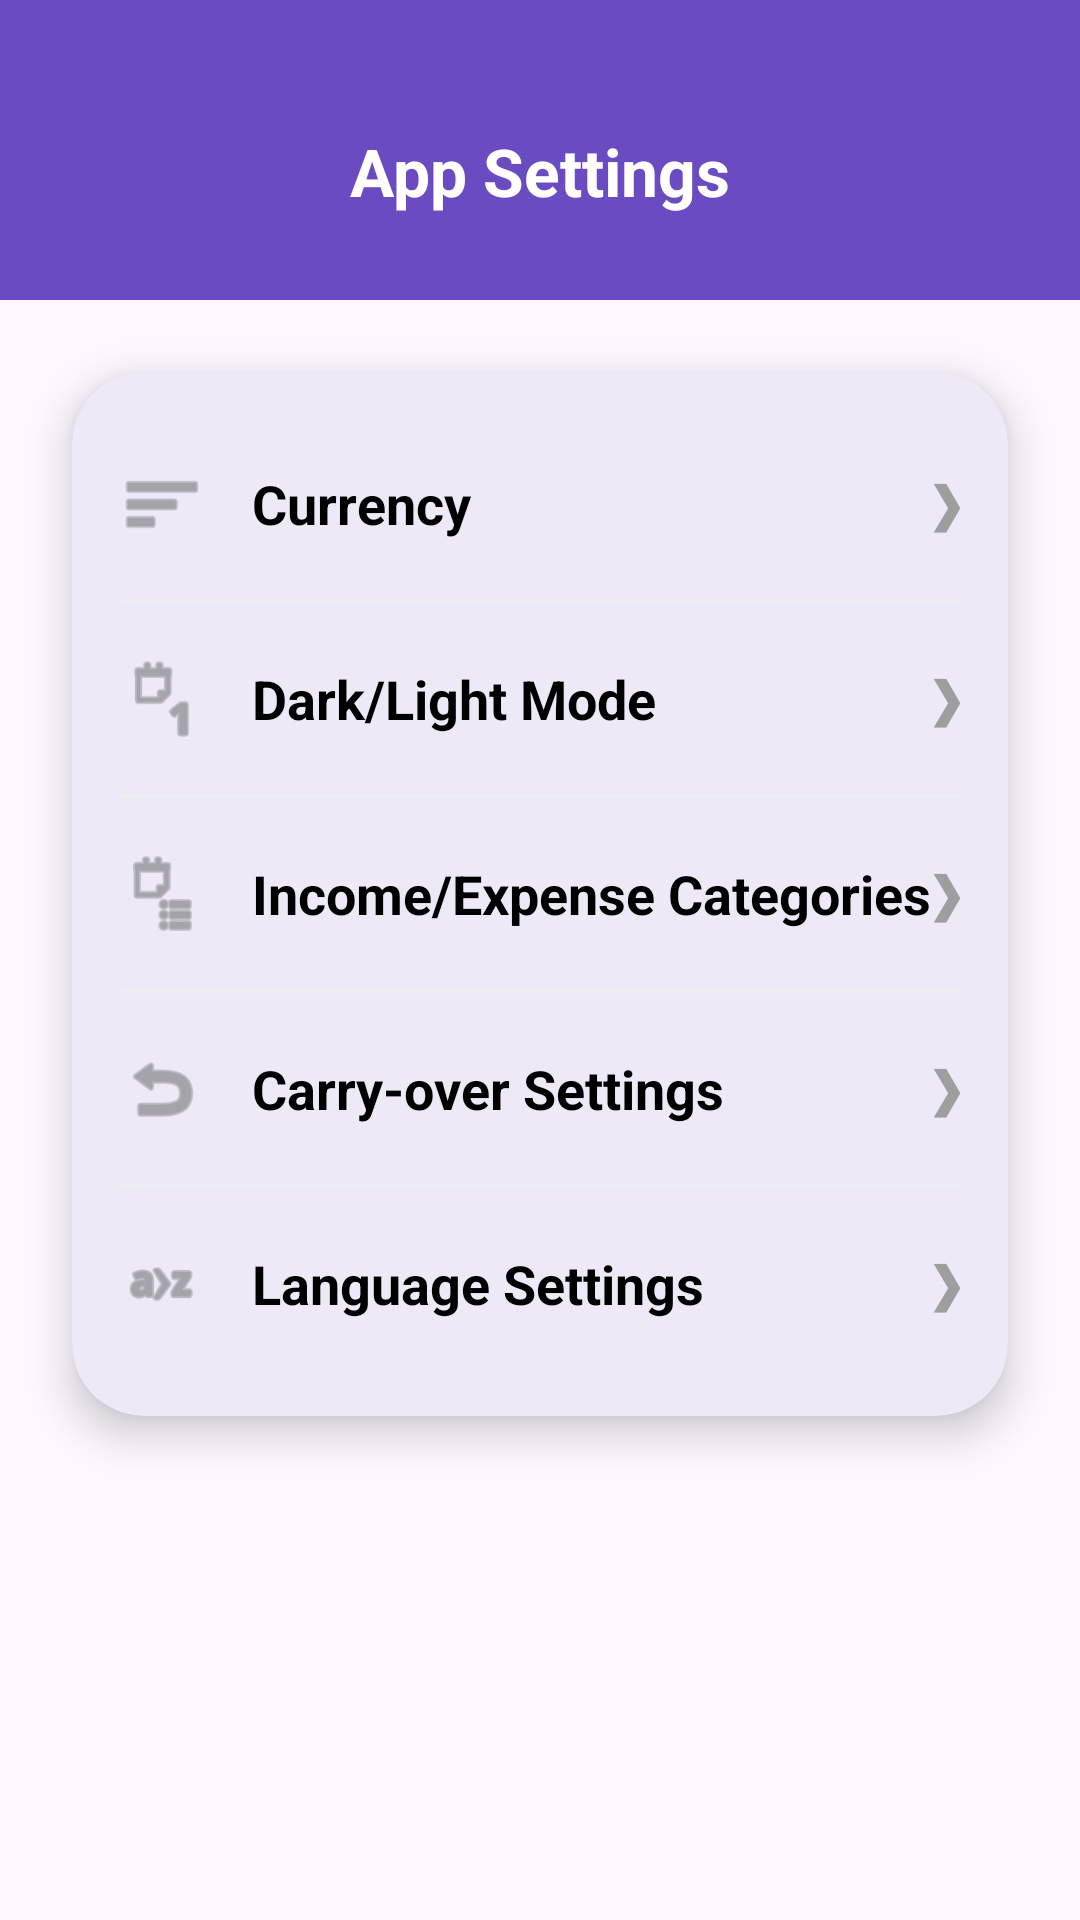

Screen size 1080×1920. Icon name, then its center in pixels as point (x, y):
agenda: point (162, 893)
day: point (161, 699)
revert: point (163, 1090)
sort alphabetically: point (161, 1284)
sort by size: point (162, 504)
